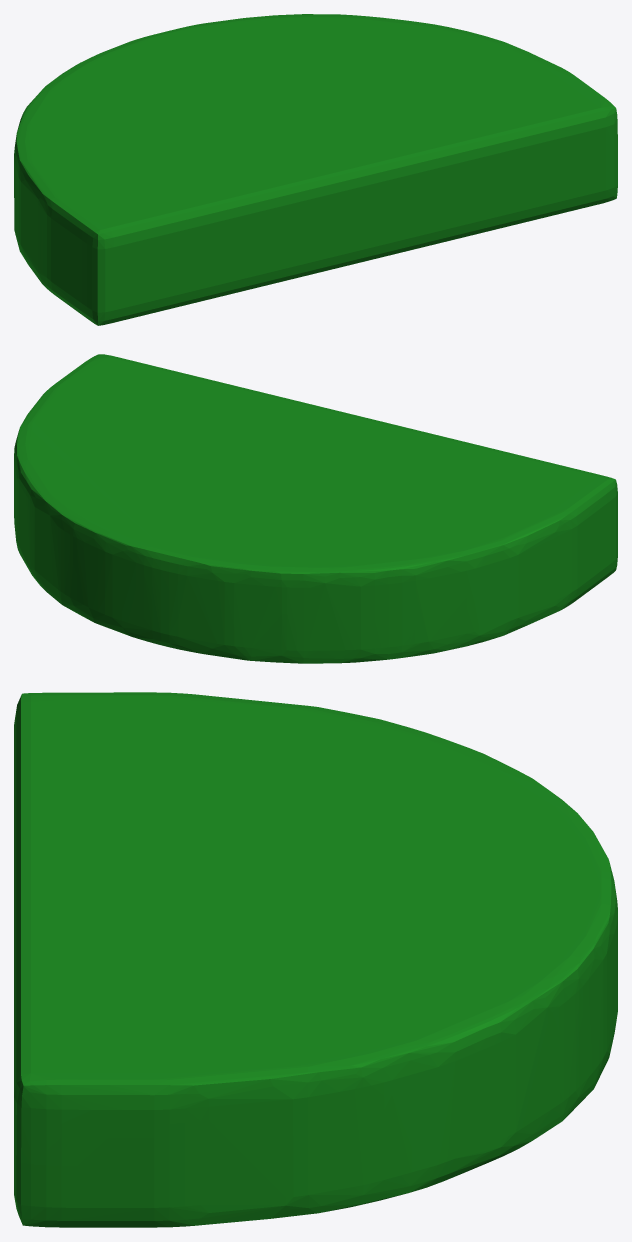
The model's file is left_shoulder_yaw_link_part_8.obj.
The picture shows the model from 3 angles, top to bottom: view 1: azimuth 30°, elevation 25°; view 2: azimuth 150°, elevation 25°; view 3: azimuth 270°, elevation 25°; orthographic projection. The views are drawn at different scales.
Size of the model in its own units: 0.0988 by 0.0168 by 0.0633.
